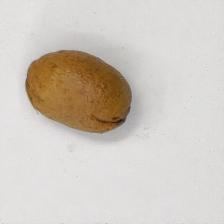NG: (90, 100, 131, 129)
